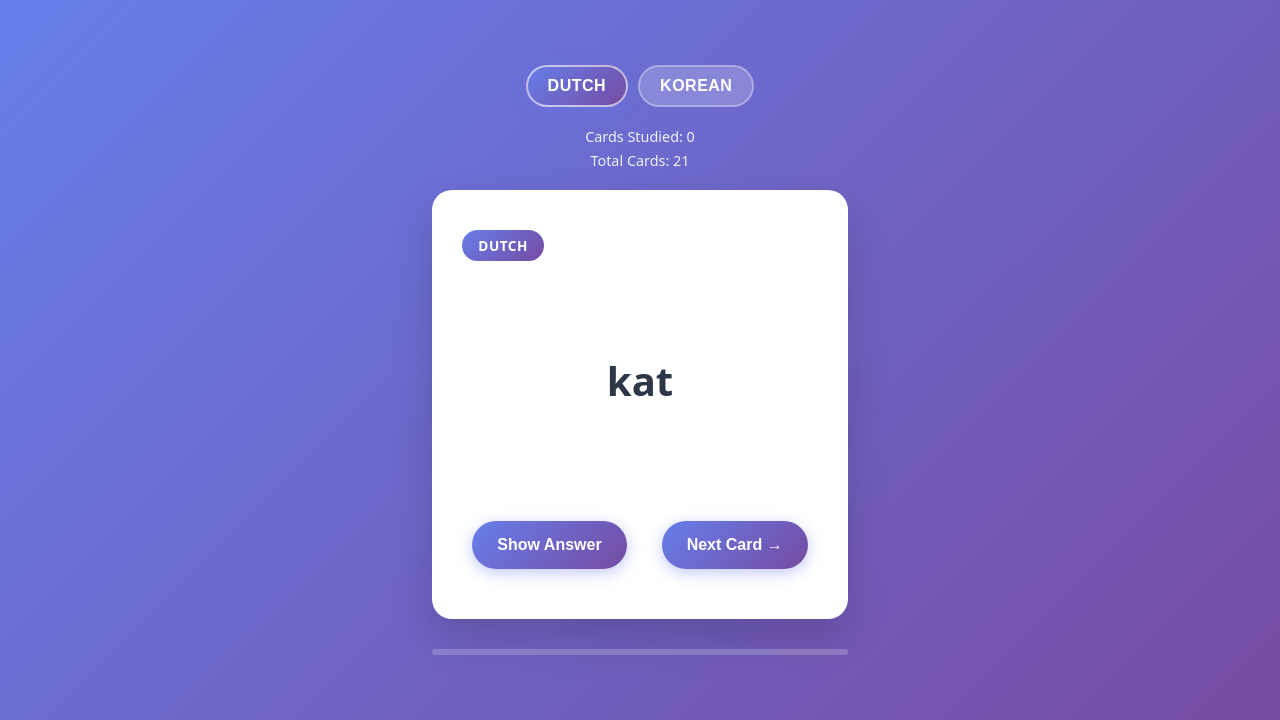
it: Flashcard App › Answer Toggle Functionality › toggles between foreign word and English translation
The width and height of the screenshot is (1280, 720).
Note: Click to show answer
Click the button "Show Answer": (549, 545) [472,521,627,569]
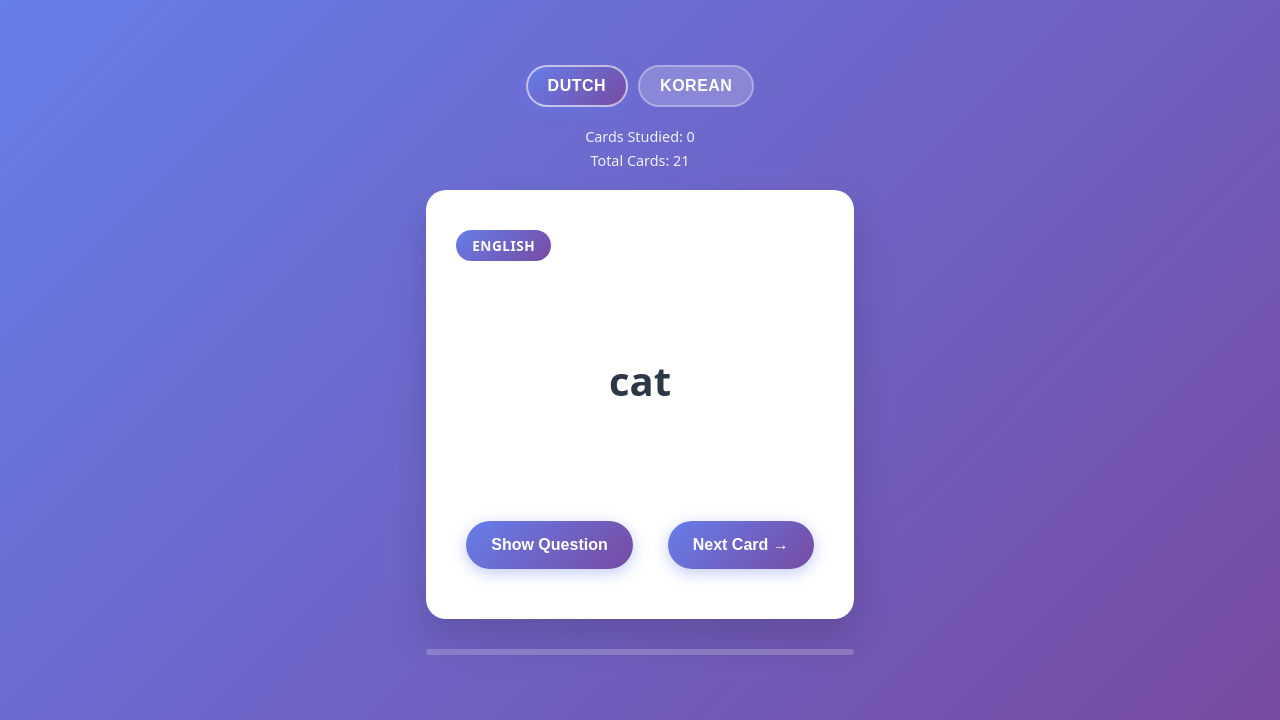
Check: the button "Show Question" is shown
Check: the heading "kat" no longer shows "kat"
Check: the heading reads "cat", box [609,353,671,408]
Note: Click to go back to question
Click the button "Show Question": (550, 545) [466,521,633,569]
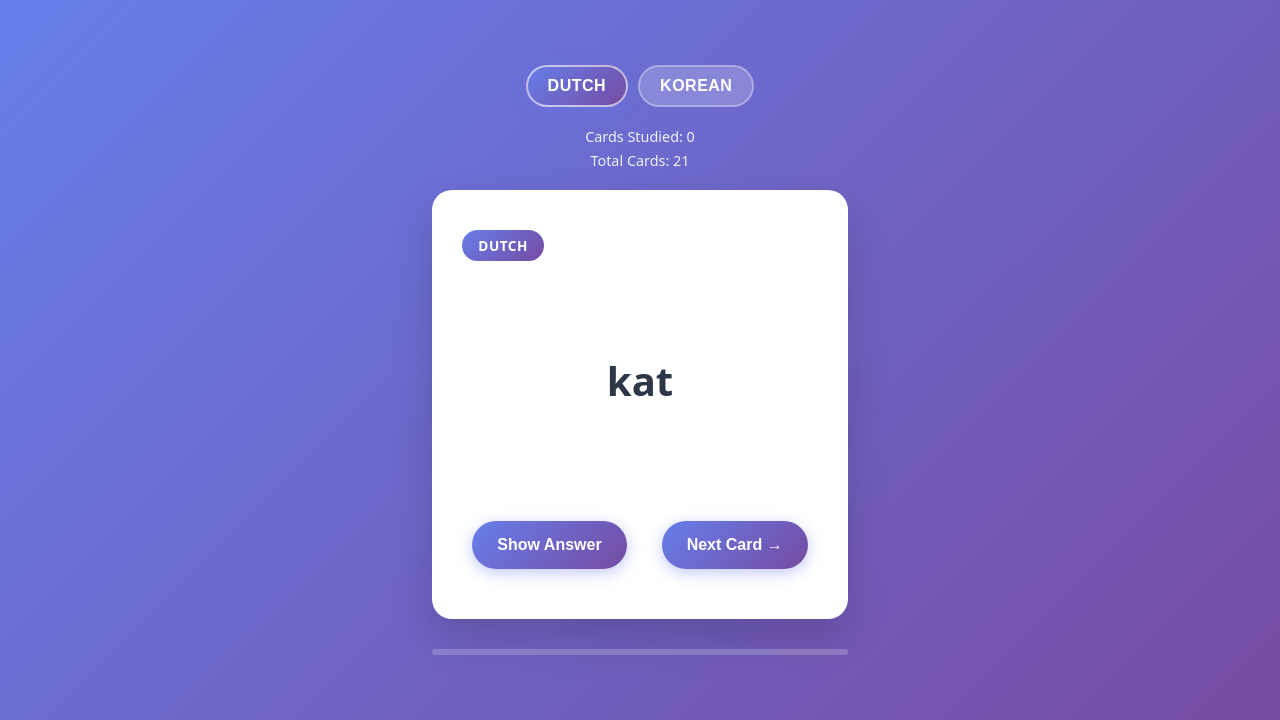
Check: the heading reads "kat", box [607,353,673,408]
Check: the button "Show Answer" is shown, box [472,521,627,569]
